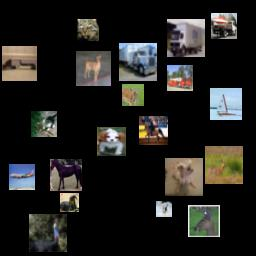airplane: (9, 164, 35, 190)
bird: (29, 214, 67, 252)
cat: (31, 111, 57, 137), (77, 19, 99, 41), (156, 201, 172, 217)
deer: (205, 146, 243, 184), (188, 205, 220, 237), (122, 84, 144, 106)
dog: (165, 158, 203, 196), (76, 51, 111, 86), (97, 127, 126, 156), (60, 193, 79, 212)
ship: (210, 88, 242, 120)
truck: (119, 43, 157, 81), (167, 19, 205, 57), (2, 46, 37, 81), (167, 65, 193, 91), (211, 13, 237, 39)
